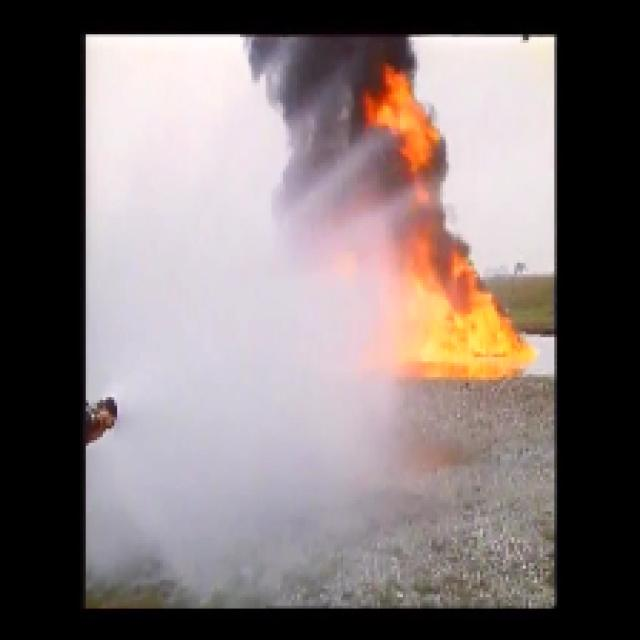fire: (422, 273, 515, 365)
smoke: (276, 42, 376, 214)
